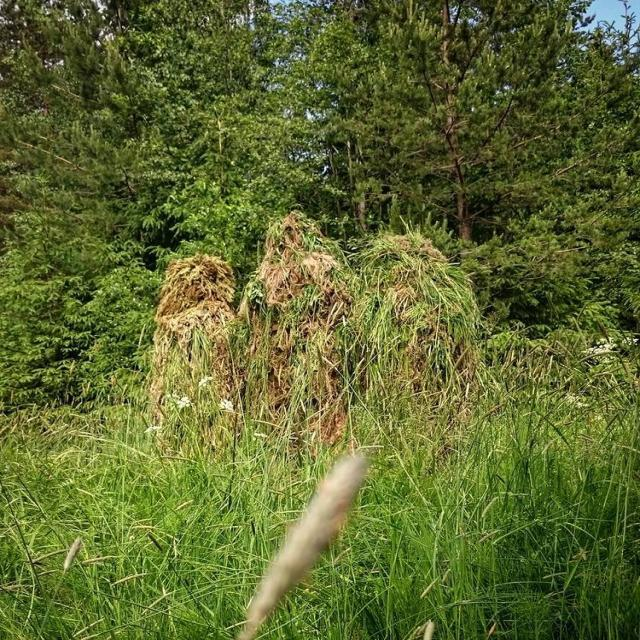Camouflage: (239, 209, 365, 457), (357, 233, 480, 445), (146, 257, 233, 457)
